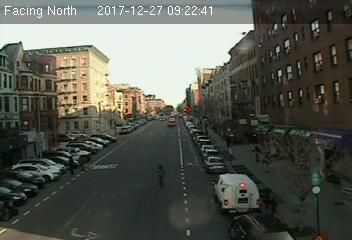car: (226, 212, 295, 240), (206, 156, 227, 171)
pedestrian: (251, 143, 261, 163)
truck: (210, 173, 259, 213)
